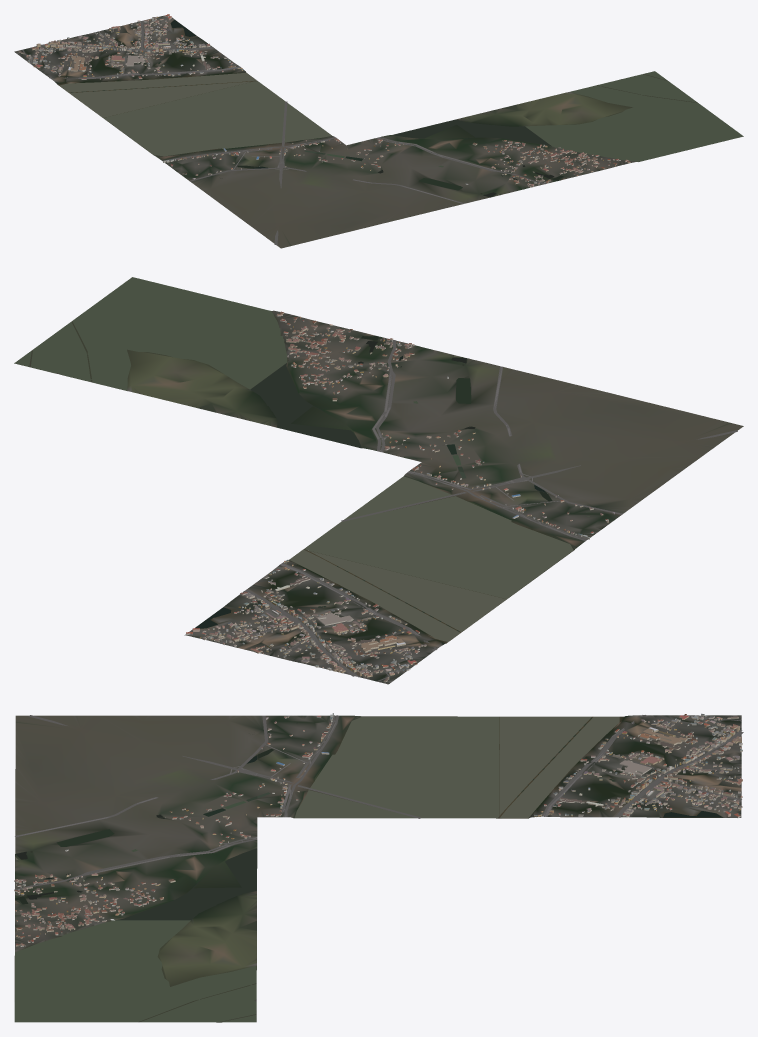
3 views of the same model, one above another, from view 1: azimuth 30°, elevation 25°; view 2: azimuth 150°, elevation 25°; view 3: azimuth 270°, elevation 25° (orthographic). The views are drawn at different scales.
Parts seen in each view (by area): view 1: ground, water, buildings, roads; view 2: ground, water, buildings, roads; view 3: ground, water, buildings, roads.
Part boxes in pixels (left/top/right/bottom): ground: left=14, top=15, right=743, bottom=248; water: left=59, top=19, right=743, bottom=197; buildings: left=18, top=14, right=630, bottom=187; roads: left=22, top=21, right=545, bottom=244; ground: left=14, top=310, right=743, bottom=684; water: left=14, top=277, right=603, bottom=642; buildings: left=186, top=311, right=614, bottom=682; roads: left=219, top=340, right=737, bottom=681; ground: left=14, top=715, right=741, bottom=1022; water: left=14, top=715, right=722, bottom=1022; buildings: left=14, top=713, right=742, bottom=946; roads: left=14, top=715, right=743, bottom=890.
Bounding box in the file's own units: 4205 × 40.77 × 4228.
